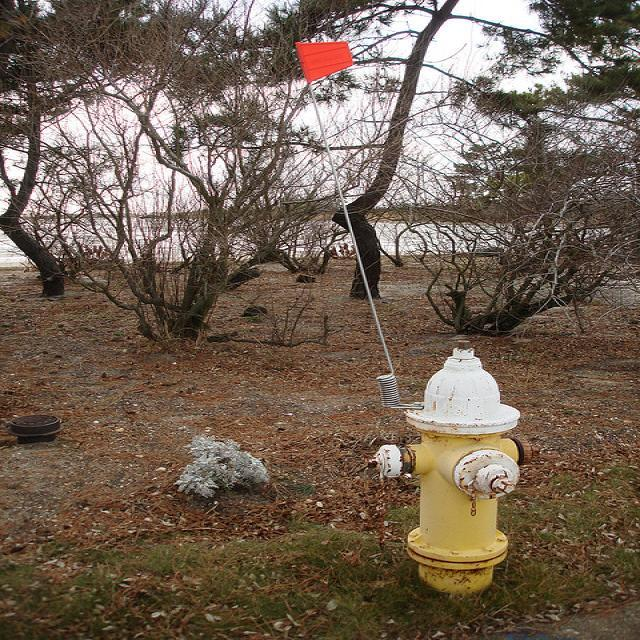fire_hydrant: (358, 345, 522, 591)
